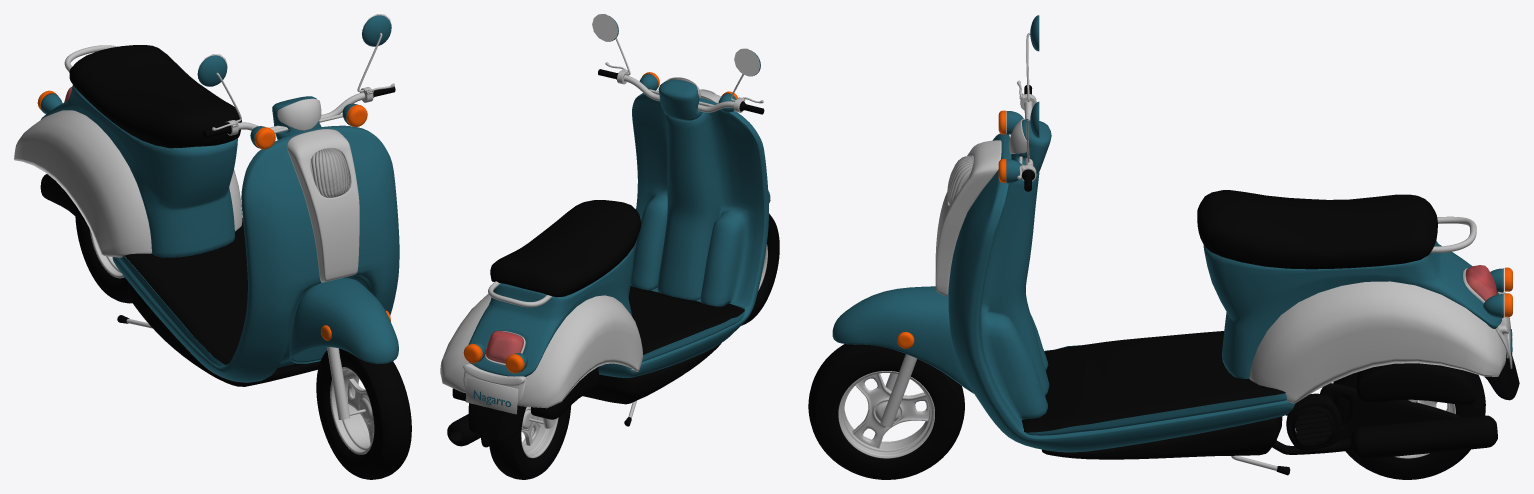
Rendered from scooter.glb.
3 renders of one model, left to right at view 1: azimuth 30°, elevation 25°; view 2: azimuth 150°, elevation 25°; view 3: azimuth 270°, elevation 25°, orthographic. The views are drawn at different scales.
Visible parts, largest first — view 1: blue_metal, black_matte_color, silver_metal, front_tire, Headlights, front_rim, back_tire; view 2: blue_metal, black_matte_color, silver_metal, back_tire, Headlights, front_tire, back_rim, Mirror; view 3: black_matte_color, blue_metal, silver_metal, front_tire, front_rim, back_tire, Headlights.
Part boxes in pixels (<box>): blue_metal: <box>40,15,399,382</box>; black_matte_color: <box>40,45,395,386</box>; silver_metal: <box>14,33,394,419</box>; front_tire: <box>316,348,411,479</box>; Headlights: <box>37,86,390,340</box>; front_rim: <box>330,367,374,454</box>; back_tire: <box>75,216,132,303</box>; blue_metal: <box>468,16,770,407</box>; black_matte_color: <box>447,69,764,447</box>; silver_metal: <box>440,38,763,428</box>; back_tire: <box>488,405,571,479</box>; Headlights: <box>463,72,738,373</box>; front_tire: <box>741,213,779,325</box>; back_rim: <box>521,406,558,458</box>; Mirror: <box>592,14,760,75</box>; black_matte_color: <box>1021,85,1519,475</box>; blue_metal: <box>832,15,1512,452</box>; silver_metal: <box>880,32,1512,470</box>; front_tire: <box>808,344,964,479</box>; front_rim: <box>838,371,934,458</box>; back_tire: <box>1333,372,1485,479</box>; Headlights: <box>897,110,1512,348</box>.
Bounding box in the file's own units: 3.59 × 6.83 × 10.51.
6 materials, 6 textured.
